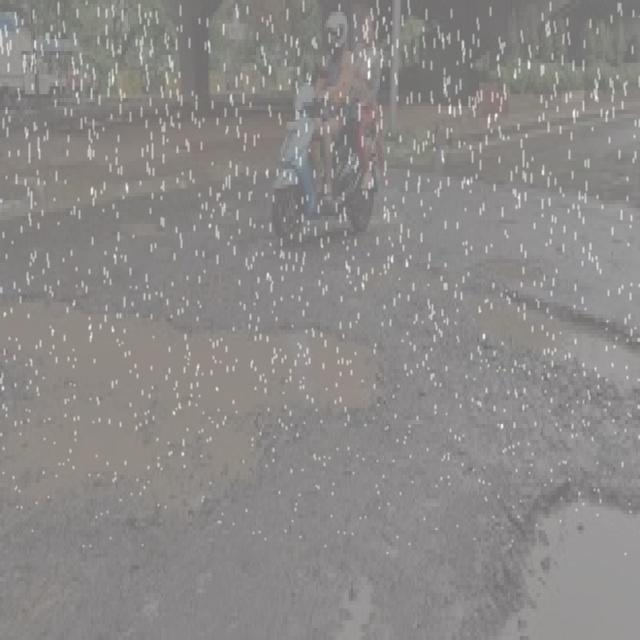Pothole: (0, 214, 391, 549), (450, 461, 639, 640), (472, 258, 640, 398)
